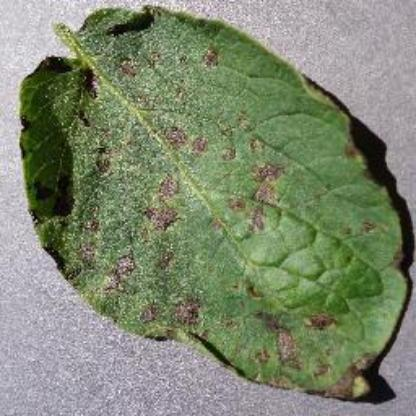Early-Blight: (15, 1, 411, 403)
